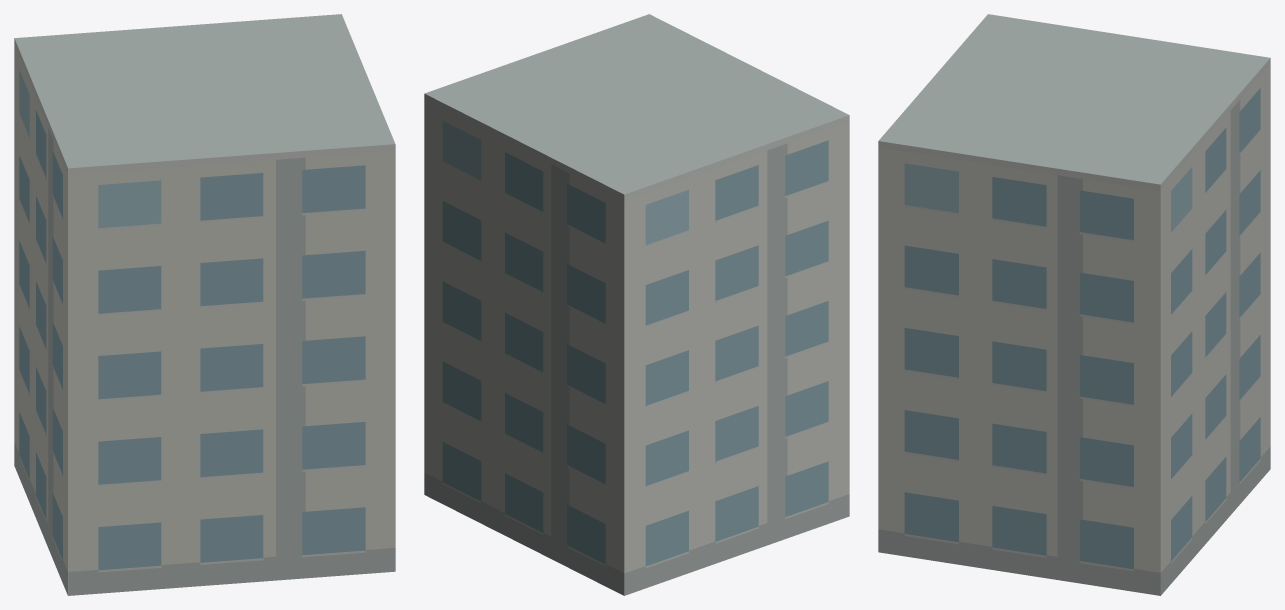
File: residential-d797c69f-1025-4cc4-bd26-240bd6979c59.glb
The picture shows the model from 3 angles, left to right: view 1: azimuth 30°, elevation 25°; view 2: azimuth 150°, elevation 25°; view 3: azimuth 270°, elevation 25°; orthographic projection. The views are drawn at different scales.
Parts seen in each view (by area): view 1: residential-d797c69f-1025-4cc4-bd26-240bd6979c59.tmp; view 2: residential-d797c69f-1025-4cc4-bd26-240bd6979c59.tmp; view 3: residential-d797c69f-1025-4cc4-bd26-240bd6979c59.tmp.
Boxes of the visible parts, left/top/right/bottom form: residential-d797c69f-1025-4cc4-bd26-240bd6979c59.tmp: left=14, top=14, right=395, bottom=595; residential-d797c69f-1025-4cc4-bd26-240bd6979c59.tmp: left=424, top=14, right=849, bottom=595; residential-d797c69f-1025-4cc4-bd26-240bd6979c59.tmp: left=878, top=14, right=1270, bottom=595.
Size of the model in its own units: 13.58 by 15.25 by 13.19.
